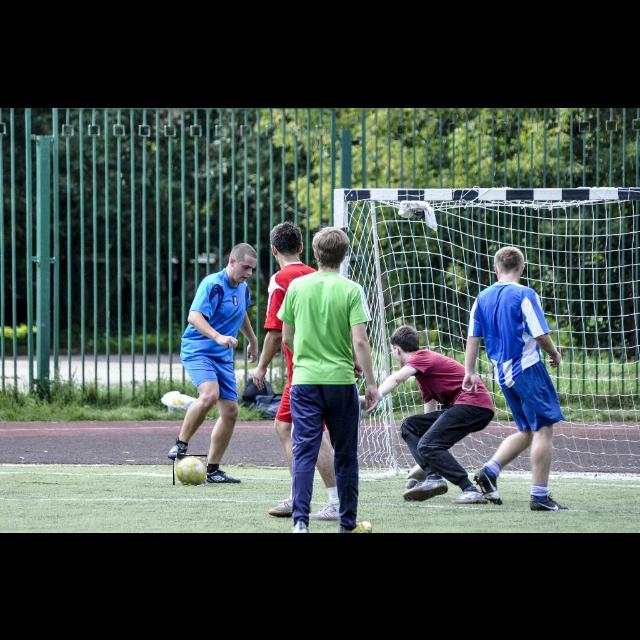Football: (173, 455, 207, 485)
